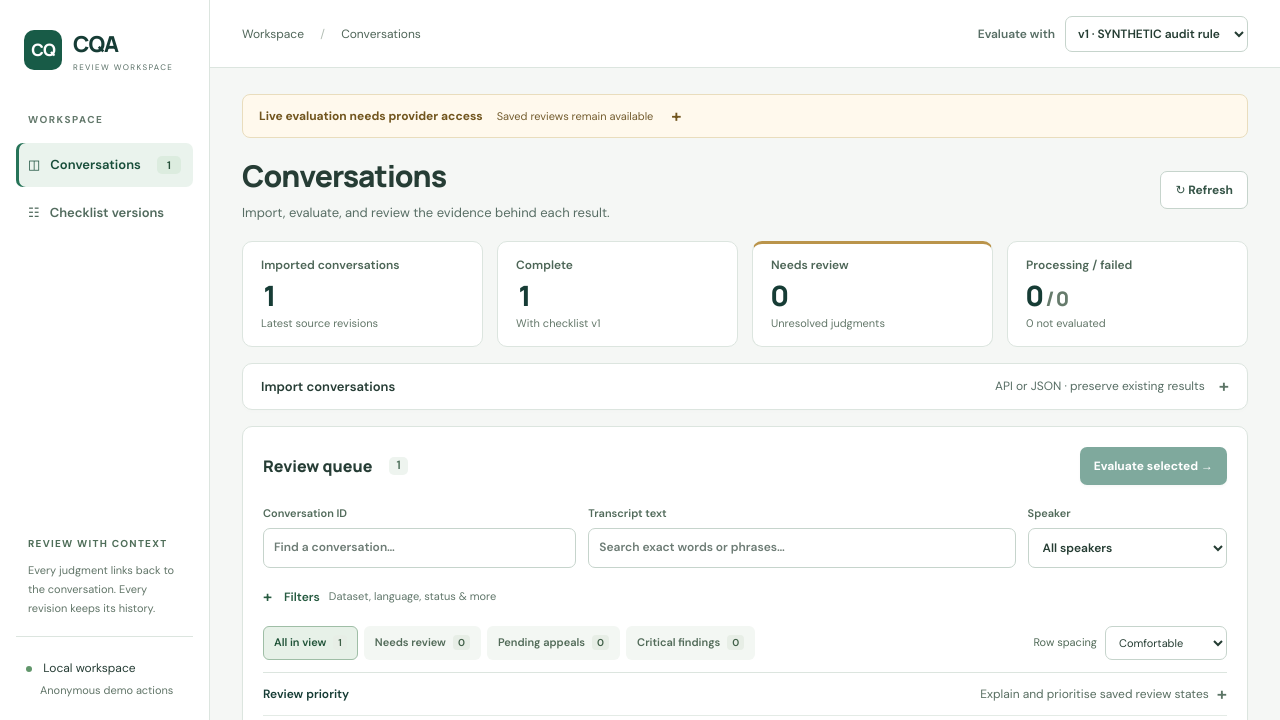
Test: keeps the current checklist queue when an older refresh finishes late
Select "v2 · SYNTHETIC audit rule" in the dropdown named "Selected checklist version" at [1156, 34], box [1065,16,1248,52]
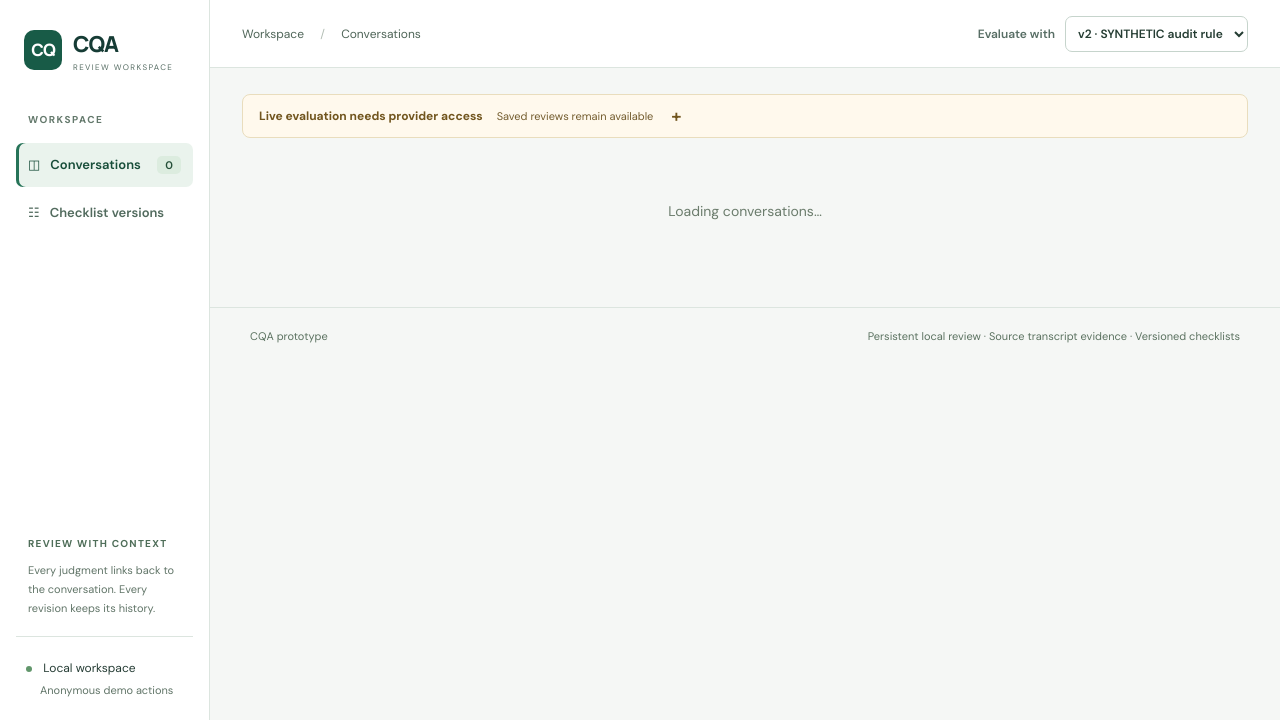
Select "v3 · SYNTHETIC audit rule" in the dropdown named "Selected checklist version" at [1156, 34], box [1065,16,1248,52]
(page scrolled)
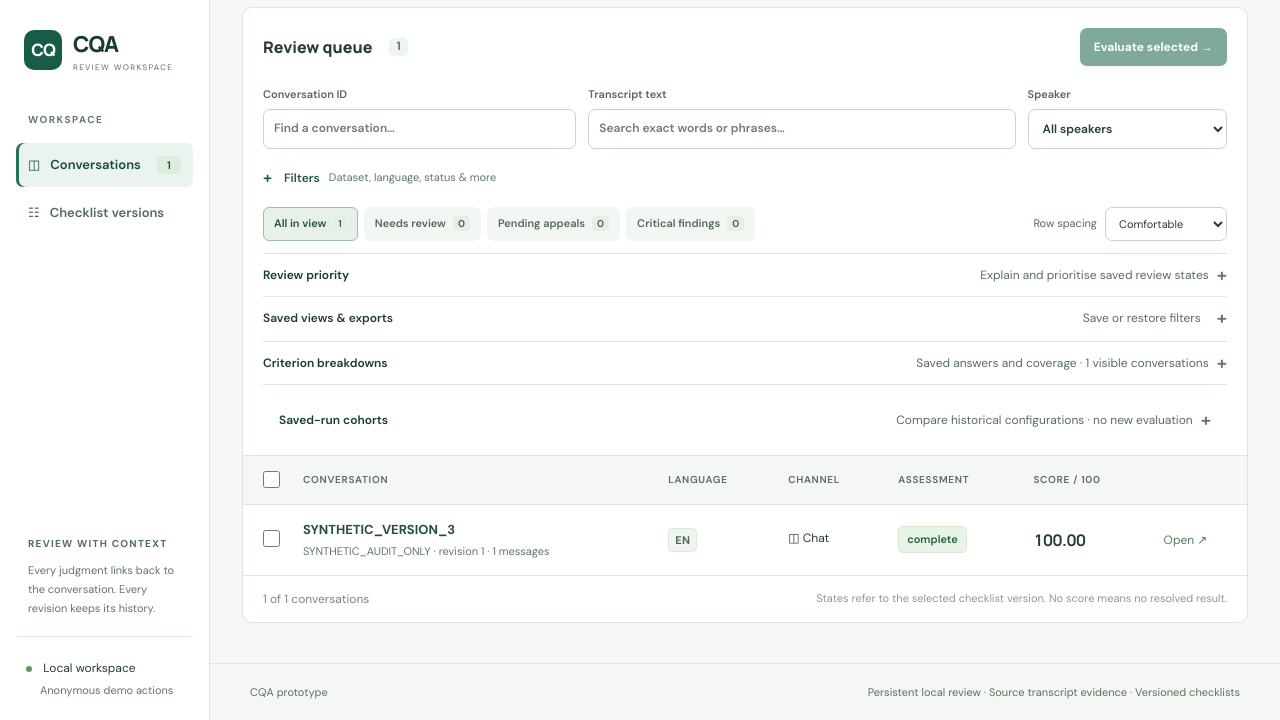
Result: the link "SYNTHETIC_VERSION_3" is shown at [303,521,455,538]
